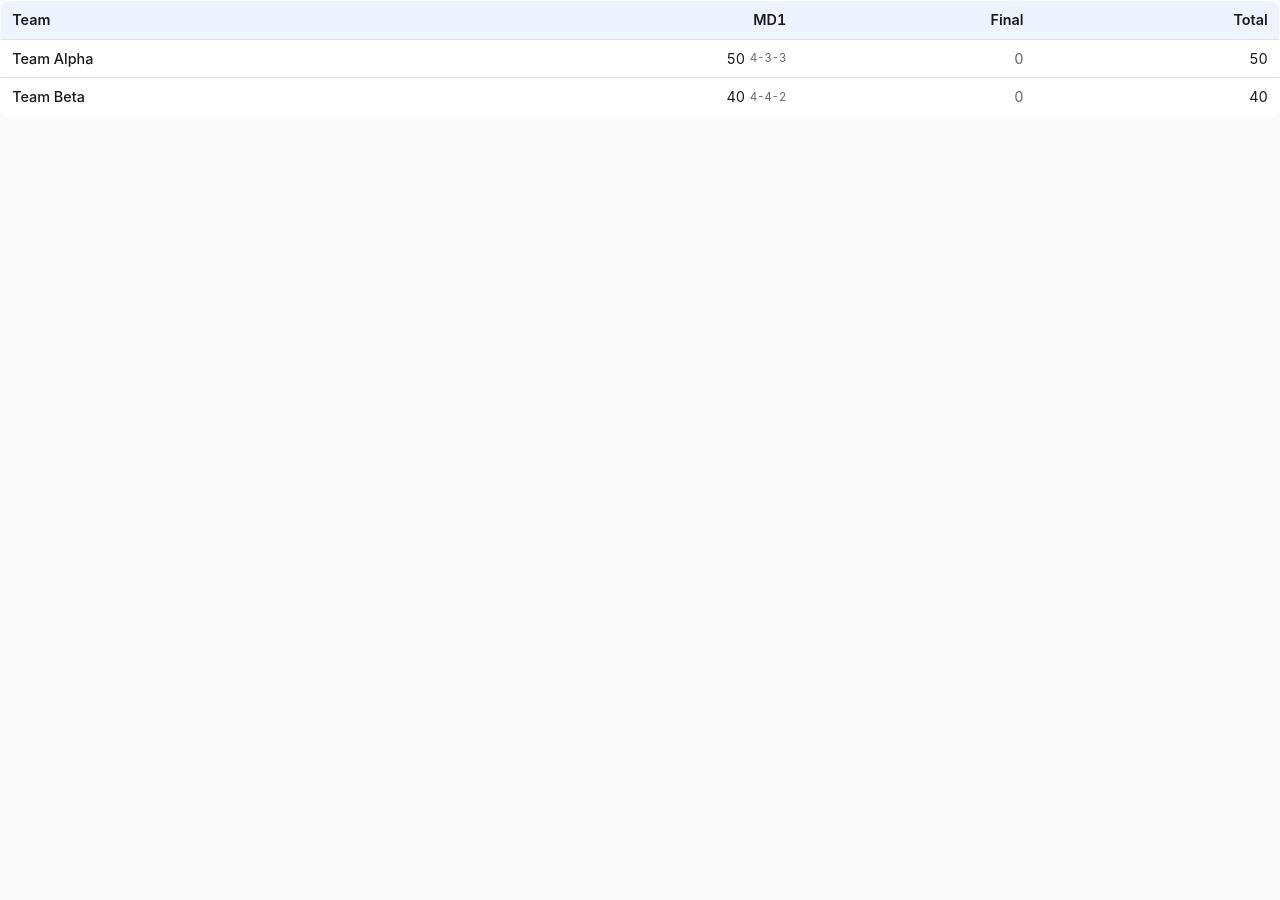
Test case: StandingsPeriodTable player breakdown › fetches and renders a player's per-rule breakdown for the period
Click the button "50 4-3-3" at (768, 58), box [446,40,798,77]
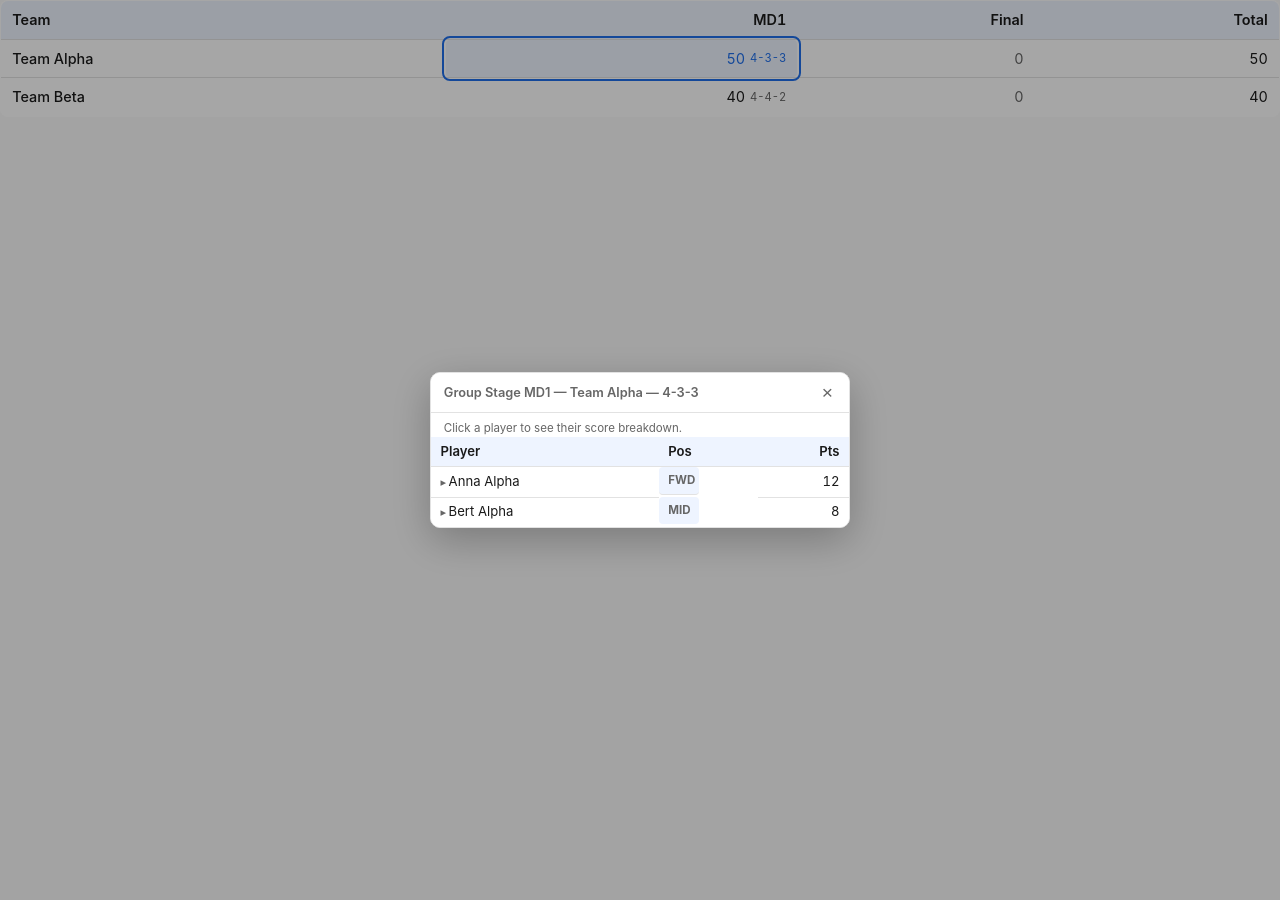
Click the button "▸ Anna Alpha" at (480, 482), box [441,472,520,492]
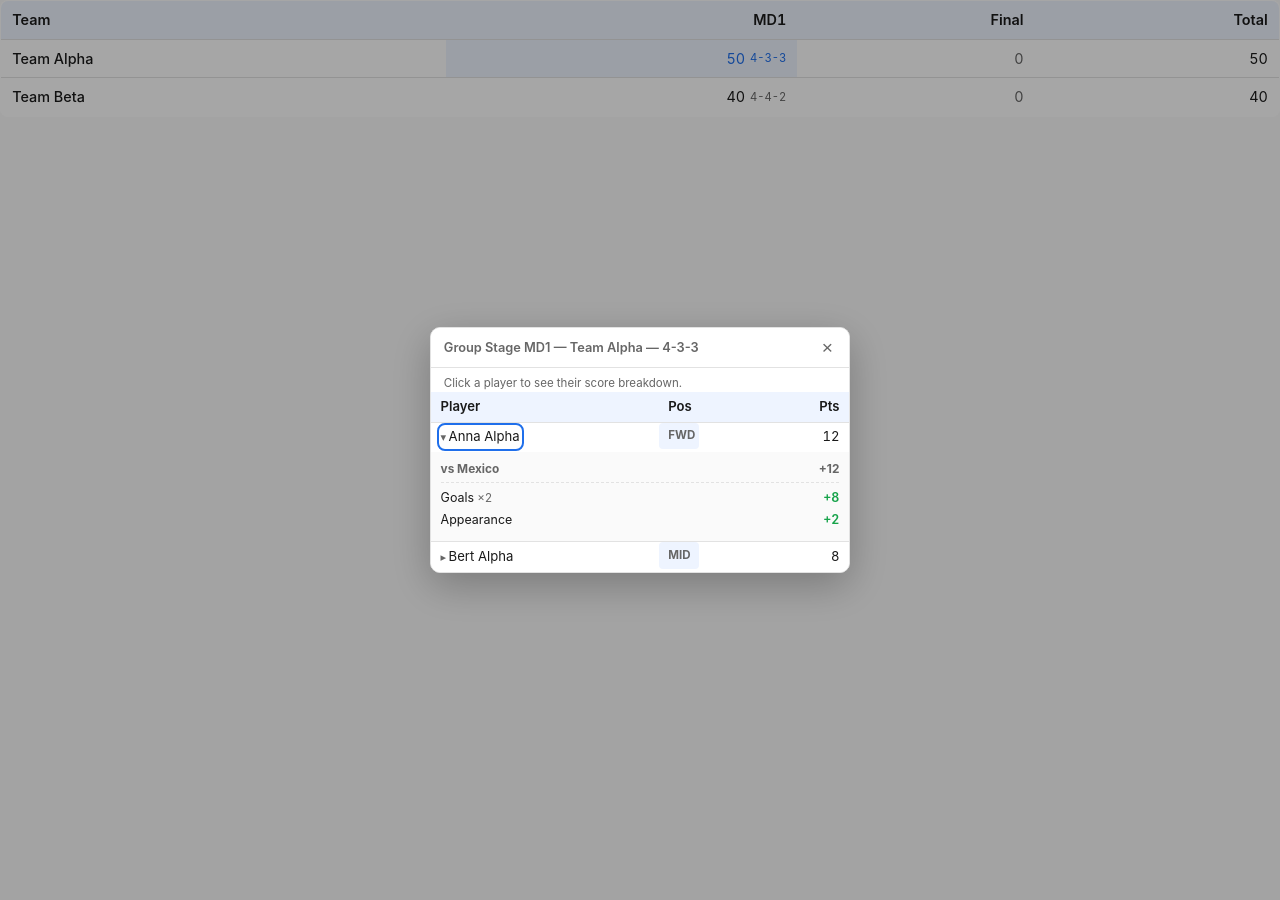
Result: the text "vs Mexico" is shown at [441,461,499,478]
Result: the text "Goals" is shown at [441,490,474,504]
Result: the text "Appearance" is shown at [441,511,512,530]
